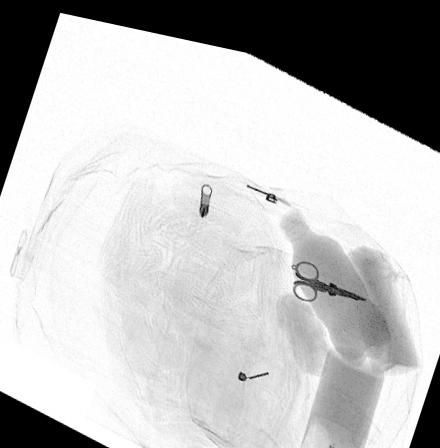Scissors: (290, 244, 367, 289)
